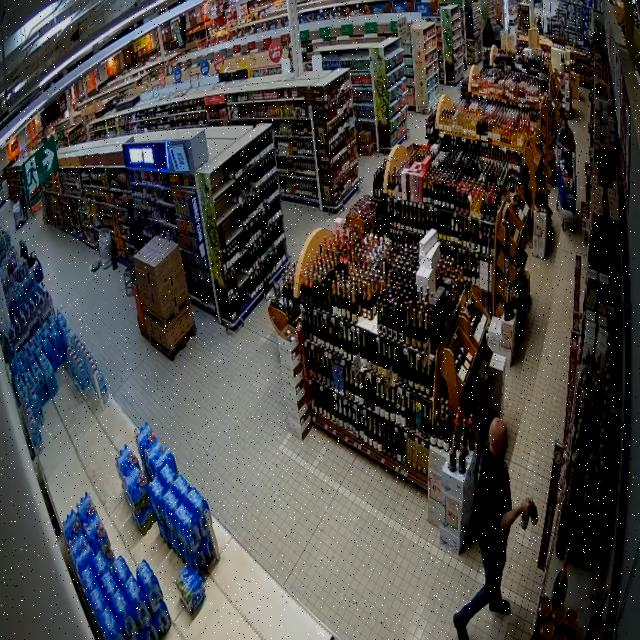article: (530, 498, 538, 526), (521, 515, 529, 530)
hands: (520, 499, 532, 515), (563, 146, 570, 155)
person: (453, 418, 531, 639), (128, 199, 145, 251), (557, 113, 575, 159)
